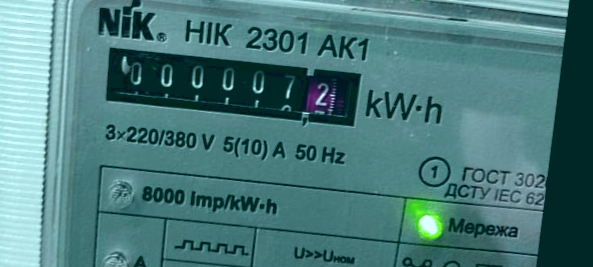0: (185, 65, 206, 94), (155, 63, 175, 93), (124, 61, 144, 90), (247, 70, 266, 99), (217, 67, 235, 96)
2: (310, 82, 330, 113)
7: (276, 74, 296, 105)
screen: (92, 36, 372, 141)
